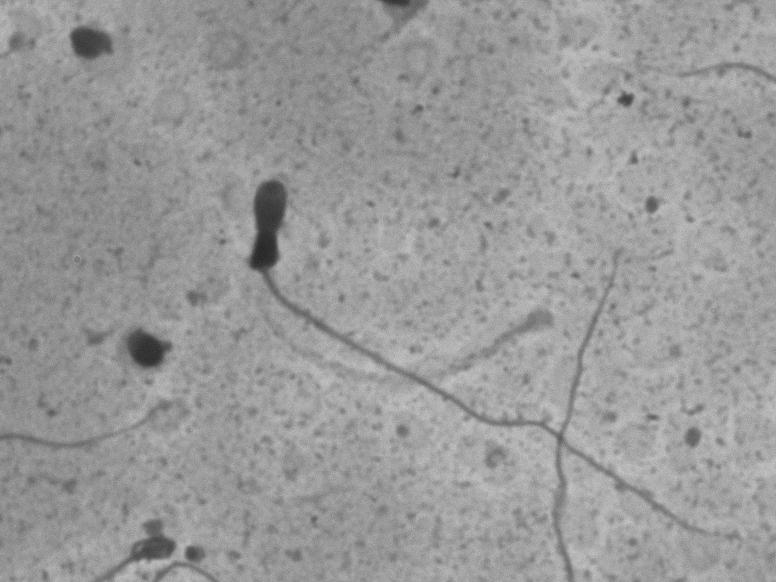Abnormal: (205, 147, 509, 466)
